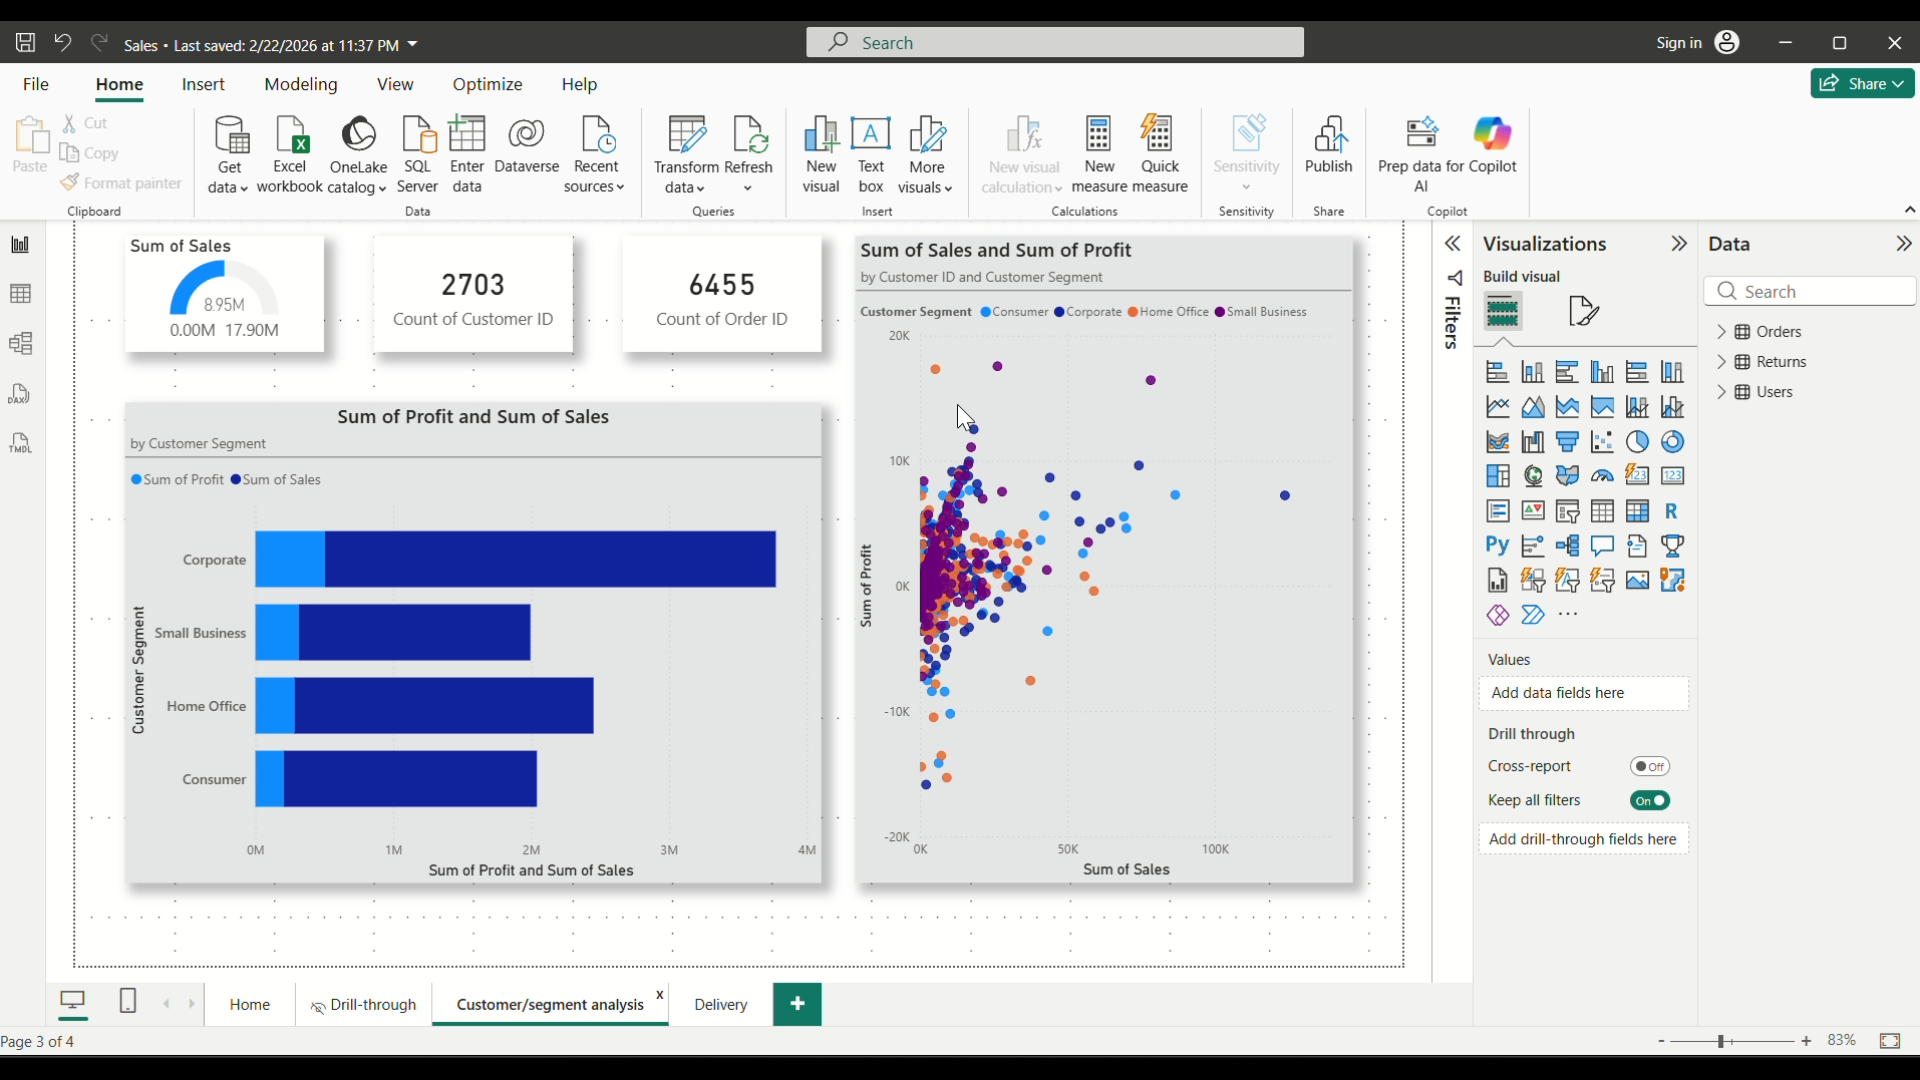

What the dashboard file says about the page in this screenshot:
{"tool":"powerbi","page":{"name":"Customer/segment analysis","canvas":[1280,720],"ordinal":2},"visuals":[{"type":"card","fields":{"Values":["Count(Orders.Customer ID)"]},"box":[288,16,192,112],"z":0},{"type":"card","fields":{"Values":["Count(Orders.Order ID)"]},"box":[528,16,192,112],"z":1000},{"type":"barChart","fields":{"Category":["Orders.Customer Segment"],"Y":["Sum(Orders.Profit)","Sum(Orders.Sales)"]},"box":[48,176,672,464],"z":2000},{"type":"scatterChart","fields":{"X":["Sum(Orders.Sales)"],"Y":["Sum(Orders.Profit)"],"Category":["Orders.Customer ID"],"Series":["Orders.Customer Segment"]},"box":[752,16,480,624],"z":3000},{"type":"gauge","fields":{"Y":["Sum(Orders.Sales)"]},"box":[48,16,192,112],"z":4000}]}

Visuals, with their boxes on the page's 1280x720 design canvas (x1, y1, x2, y2). These are canvas units, not pixel positions in the 1920x1080 screenshot, which may show the page scaled, cropped or inside an application window:
card - Count(Orders.Customer ID): l=288, t=16, r=480, b=128
card - Count(Orders.Order ID): l=528, t=16, r=720, b=128
barChart - Orders.Customer Segment x Sum(Orders.Profit): l=48, t=176, r=720, b=640
scatterChart - Sum(Orders.Sales) x Sum(Orders.Profit): l=752, t=16, r=1232, b=640
gauge - Sum(Orders.Sales): l=48, t=16, r=240, b=128
